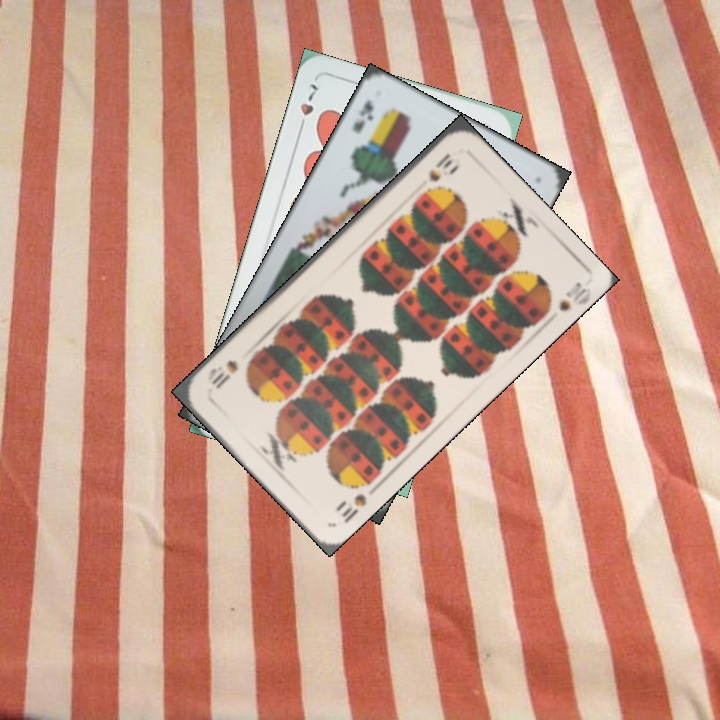EK: (348, 95, 376, 136)
H7: (294, 79, 320, 135)
S10: (338, 489, 370, 526), (424, 148, 455, 185)
